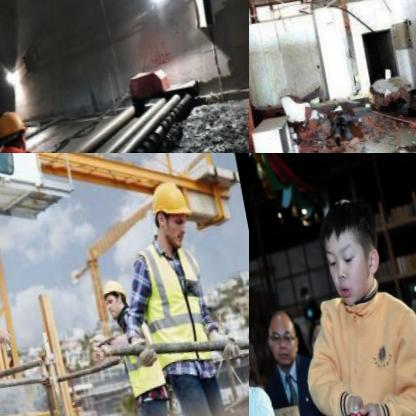head: (308, 189, 391, 307), (258, 301, 303, 369), (249, 298, 263, 403)
helmet: (143, 175, 200, 252), (96, 271, 132, 320), (0, 105, 29, 153)
